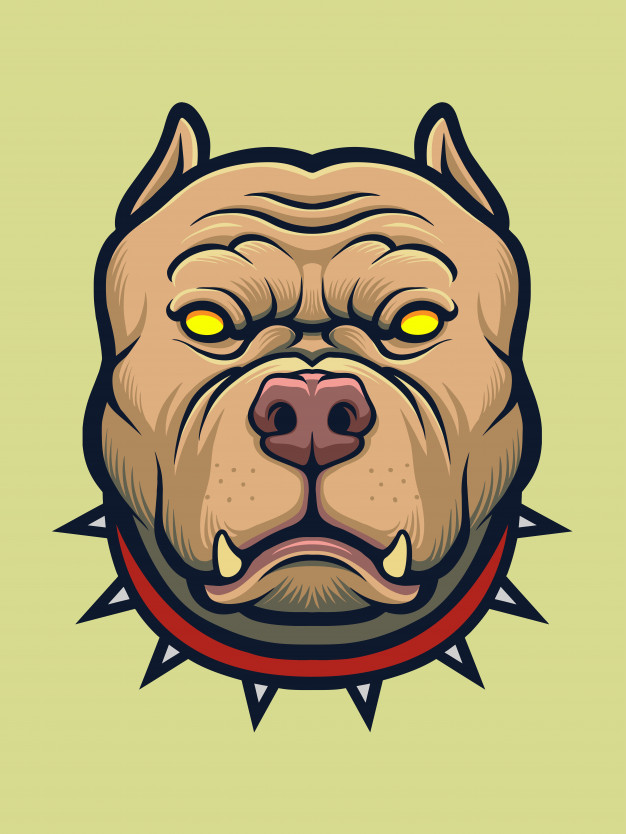Perro Pitbull: (45, 83, 612, 748)
